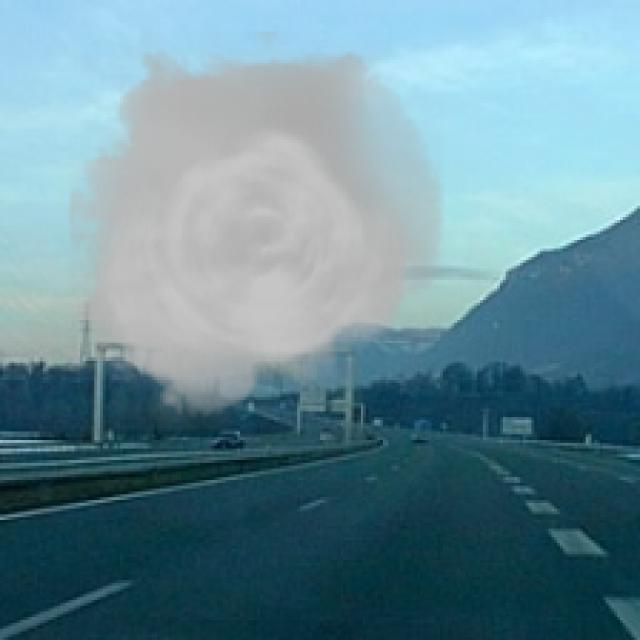Smoke: (68, 31, 446, 428)
